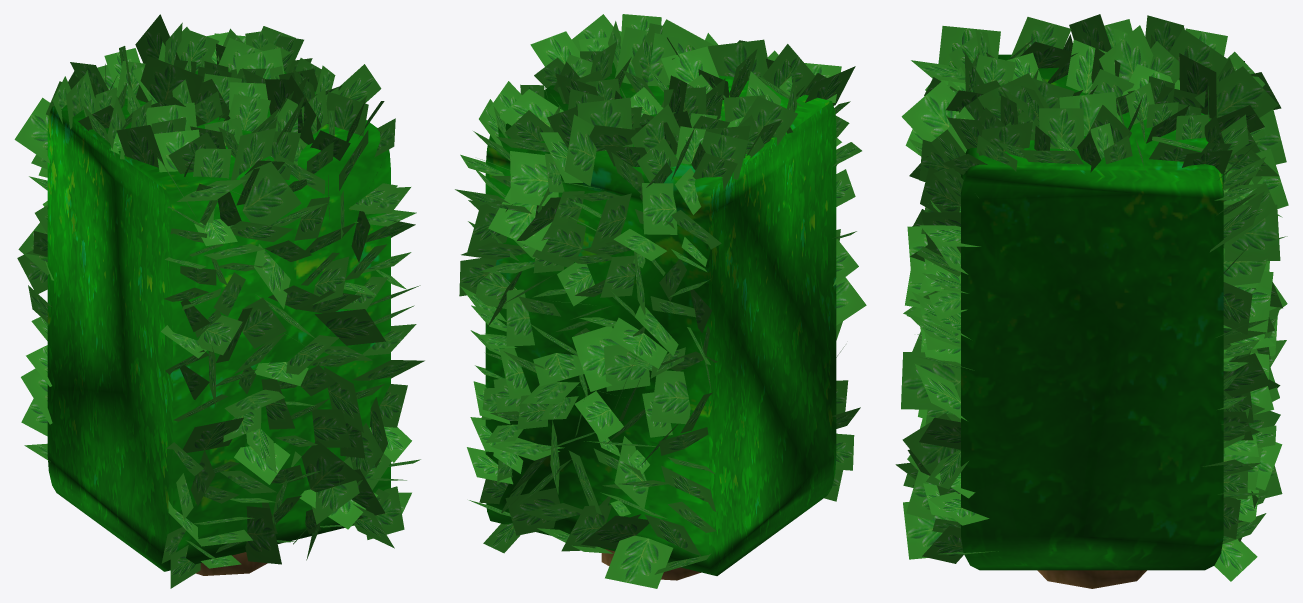
The model's file is sb_obj_outdoor012_Hedge01c.fbx.
3 views of the same model, side by side, from view 1: azimuth 30°, elevation 25°; view 2: azimuth 150°, elevation 25°; view 3: azimuth 270°, elevation 25° (orthographic). The views are drawn at different scales.
Parts seen in each view (by area): view 1: leaf_plus_c, sb_obj_outdoor012_Hedge01c; view 2: leaf_plus_c, sb_obj_outdoor012_Hedge01c; view 3: sb_obj_outdoor012_Hedge01c, leaf_plus_c.
Part boxes in pixels (bbox=[...]): leaf_plus_c: bbox=[14, 14, 424, 588]; sb_obj_outdoor012_Hedge01c: bbox=[47, 70, 390, 575]; leaf_plus_c: bbox=[455, 14, 866, 588]; sb_obj_outdoor012_Hedge01c: bbox=[485, 62, 836, 580]; sb_obj_outdoor012_Hedge01c: bbox=[961, 54, 1223, 588]; leaf_plus_c: bbox=[895, 14, 1288, 581].
Size of the model in its own units: 1.25 by 2.15 by 1.5.
